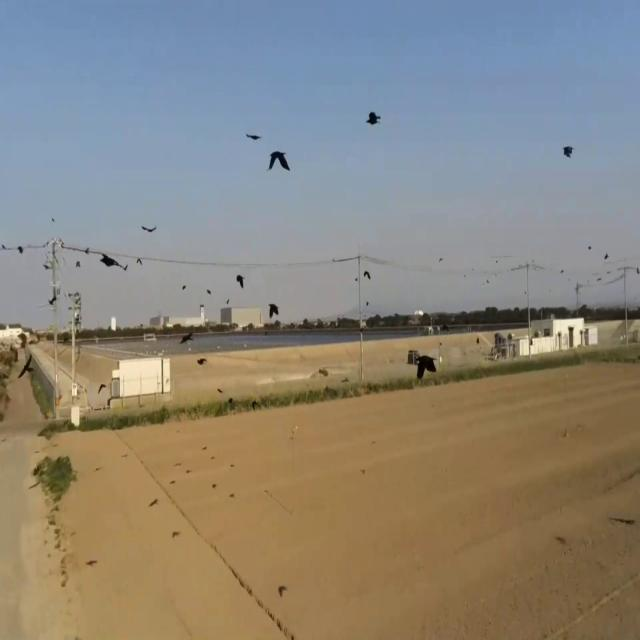bird: (268, 141, 290, 182), (100, 247, 122, 277), (366, 102, 381, 131), (268, 296, 280, 324), (246, 126, 260, 148), (142, 218, 156, 239), (562, 138, 574, 161), (48, 286, 58, 312), (196, 352, 206, 370), (236, 268, 244, 290), (363, 266, 371, 285), (136, 253, 142, 269), (17, 242, 23, 257), (107, 392, 112, 410), (206, 285, 212, 299), (122, 260, 128, 272), (604, 250, 609, 264), (182, 281, 186, 295), (76, 258, 80, 271)
